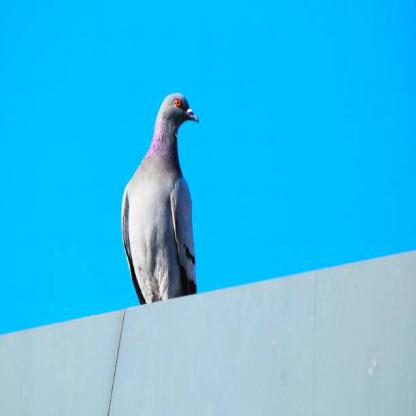Flying Rat: (111, 89, 213, 306)
